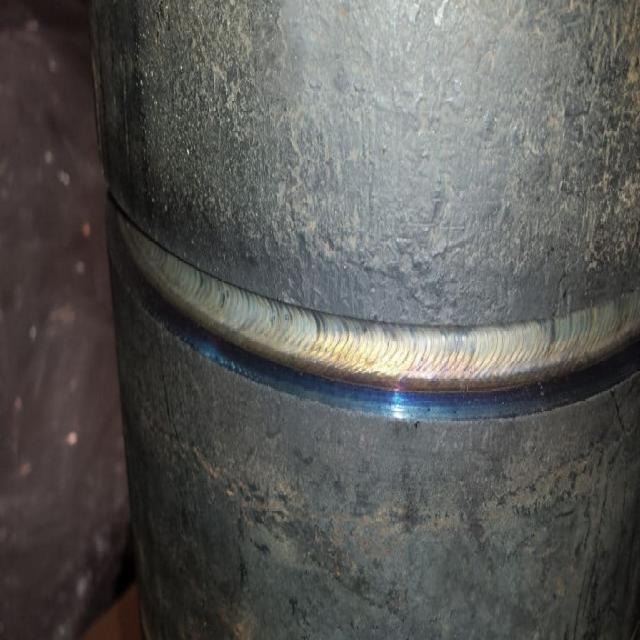Good Welding: (224, 286, 604, 424)
